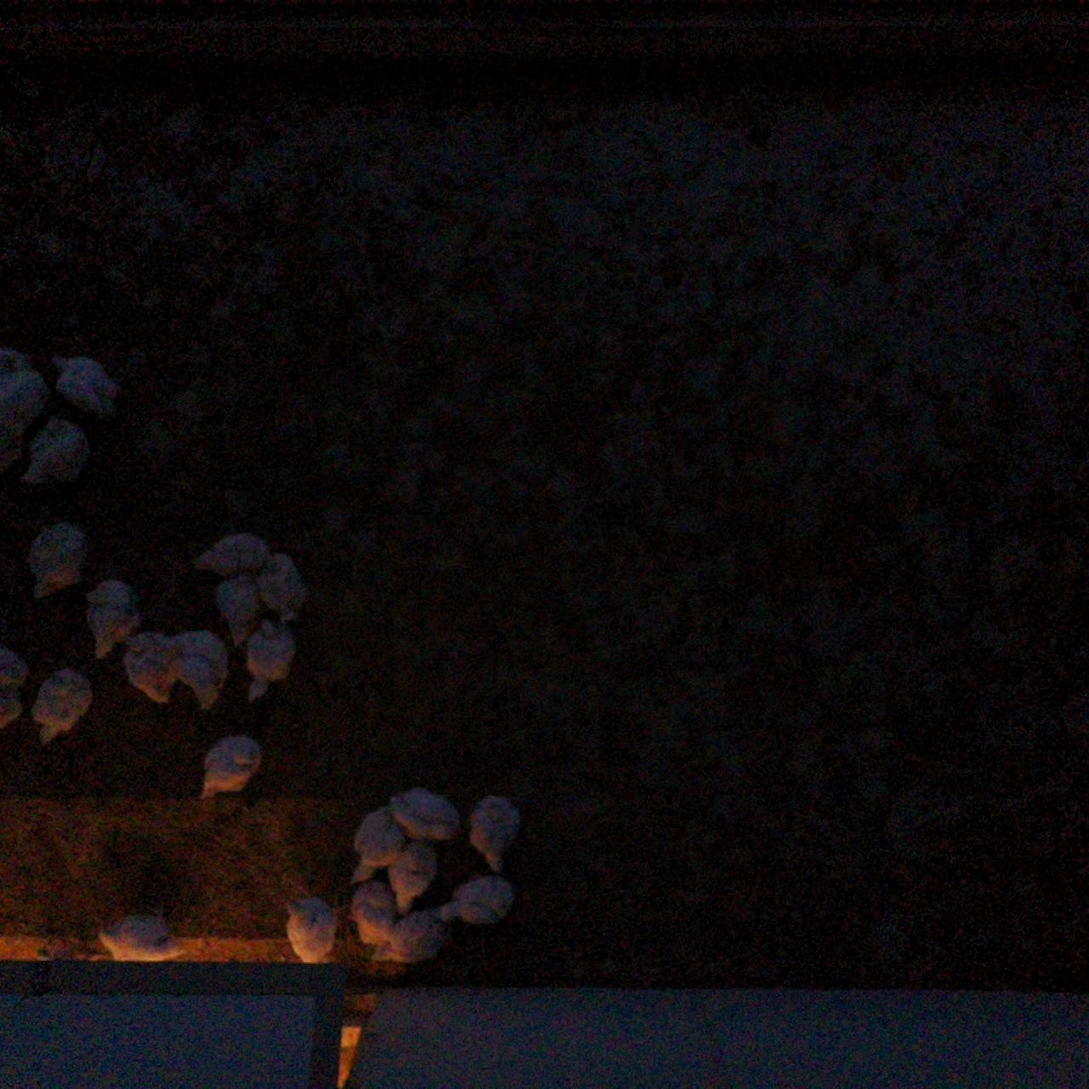chicken: (29, 663, 94, 750), (93, 908, 187, 967), (83, 574, 144, 664), (166, 627, 227, 715), (47, 349, 122, 420), (274, 891, 342, 969), (23, 518, 87, 600), (22, 413, 88, 489), (118, 626, 179, 708), (464, 790, 524, 872), (238, 618, 295, 704), (195, 731, 263, 802), (347, 805, 408, 884), (383, 785, 466, 843), (383, 836, 439, 917), (438, 874, 520, 929), (210, 572, 267, 650), (245, 549, 309, 618), (371, 910, 446, 967), (196, 528, 274, 579), (350, 878, 401, 950), (0, 366, 45, 434), (0, 639, 28, 696), (0, 413, 24, 470), (0, 685, 26, 735), (0, 337, 29, 374)
